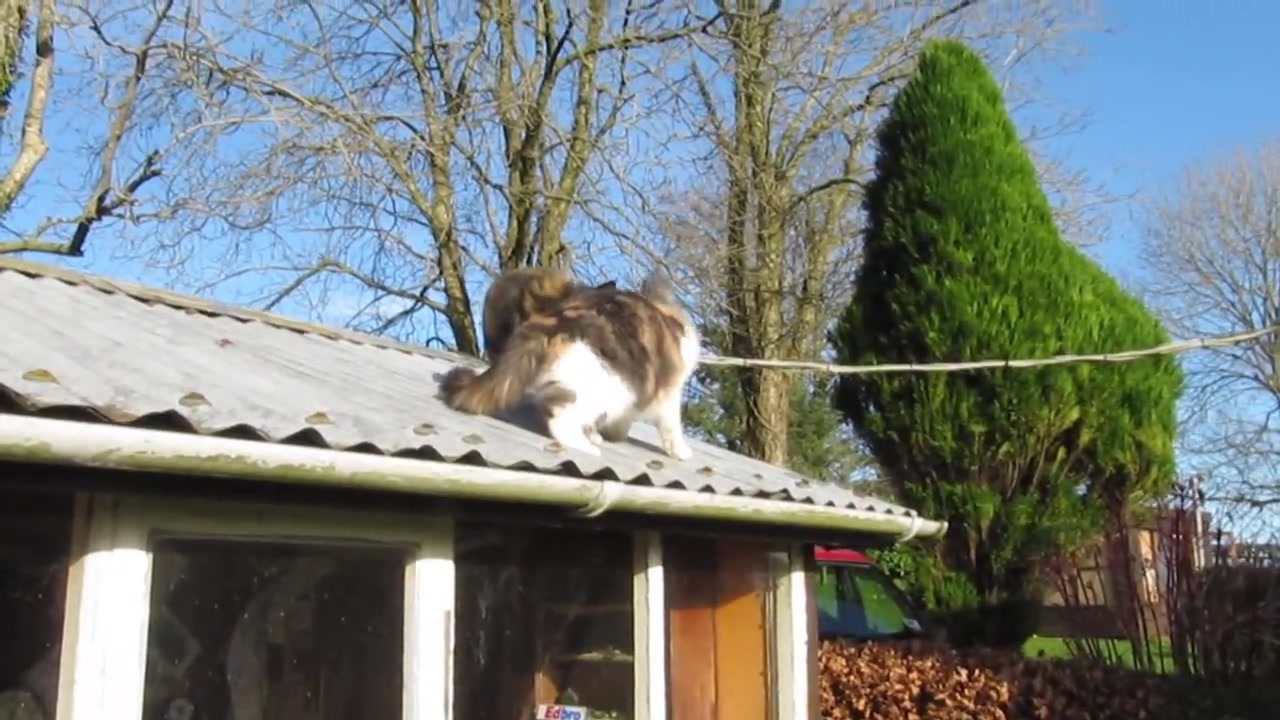cat: (447, 279, 703, 463)
